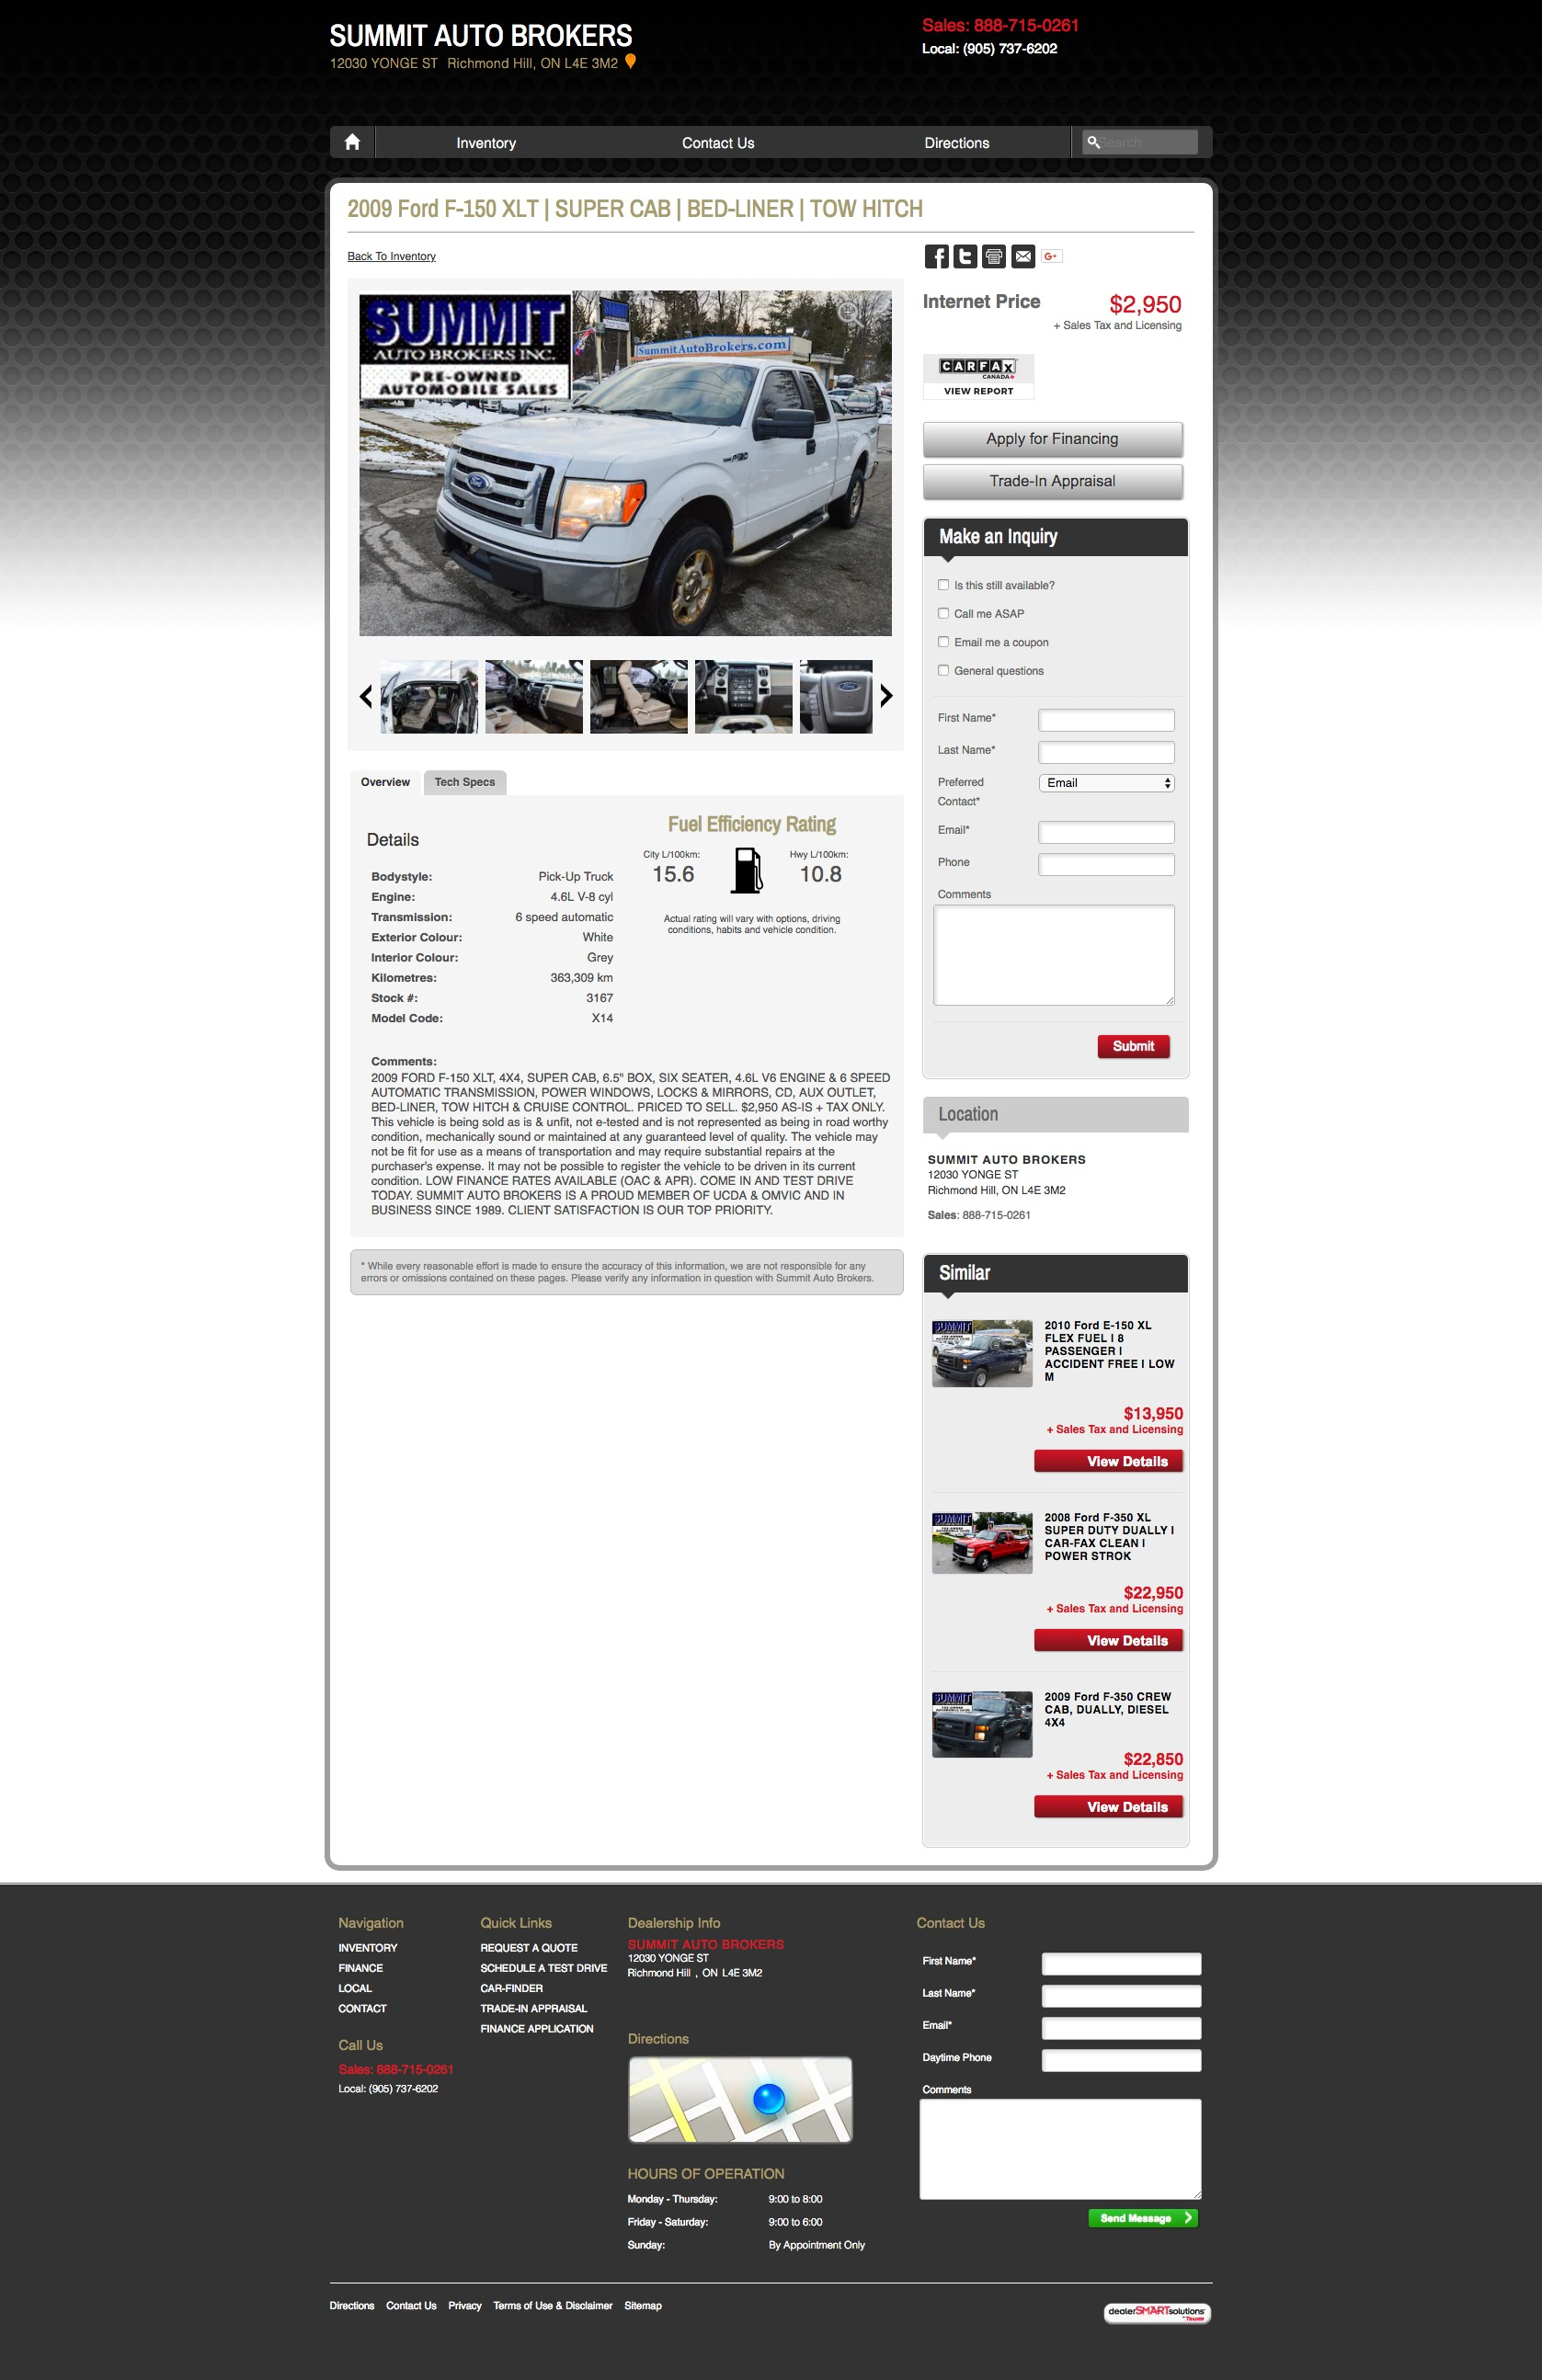car: (879, 683, 895, 709)
